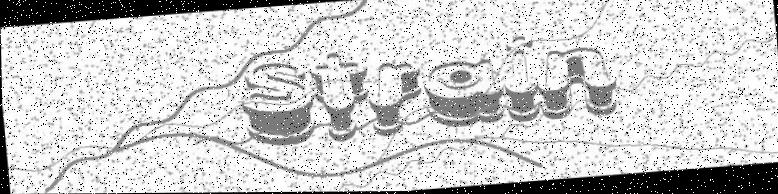a: (422, 59, 506, 129)
i: (500, 36, 541, 123)
n: (535, 46, 618, 121)
r: (365, 61, 425, 137)
s: (239, 60, 317, 148)
t: (309, 51, 371, 143)
